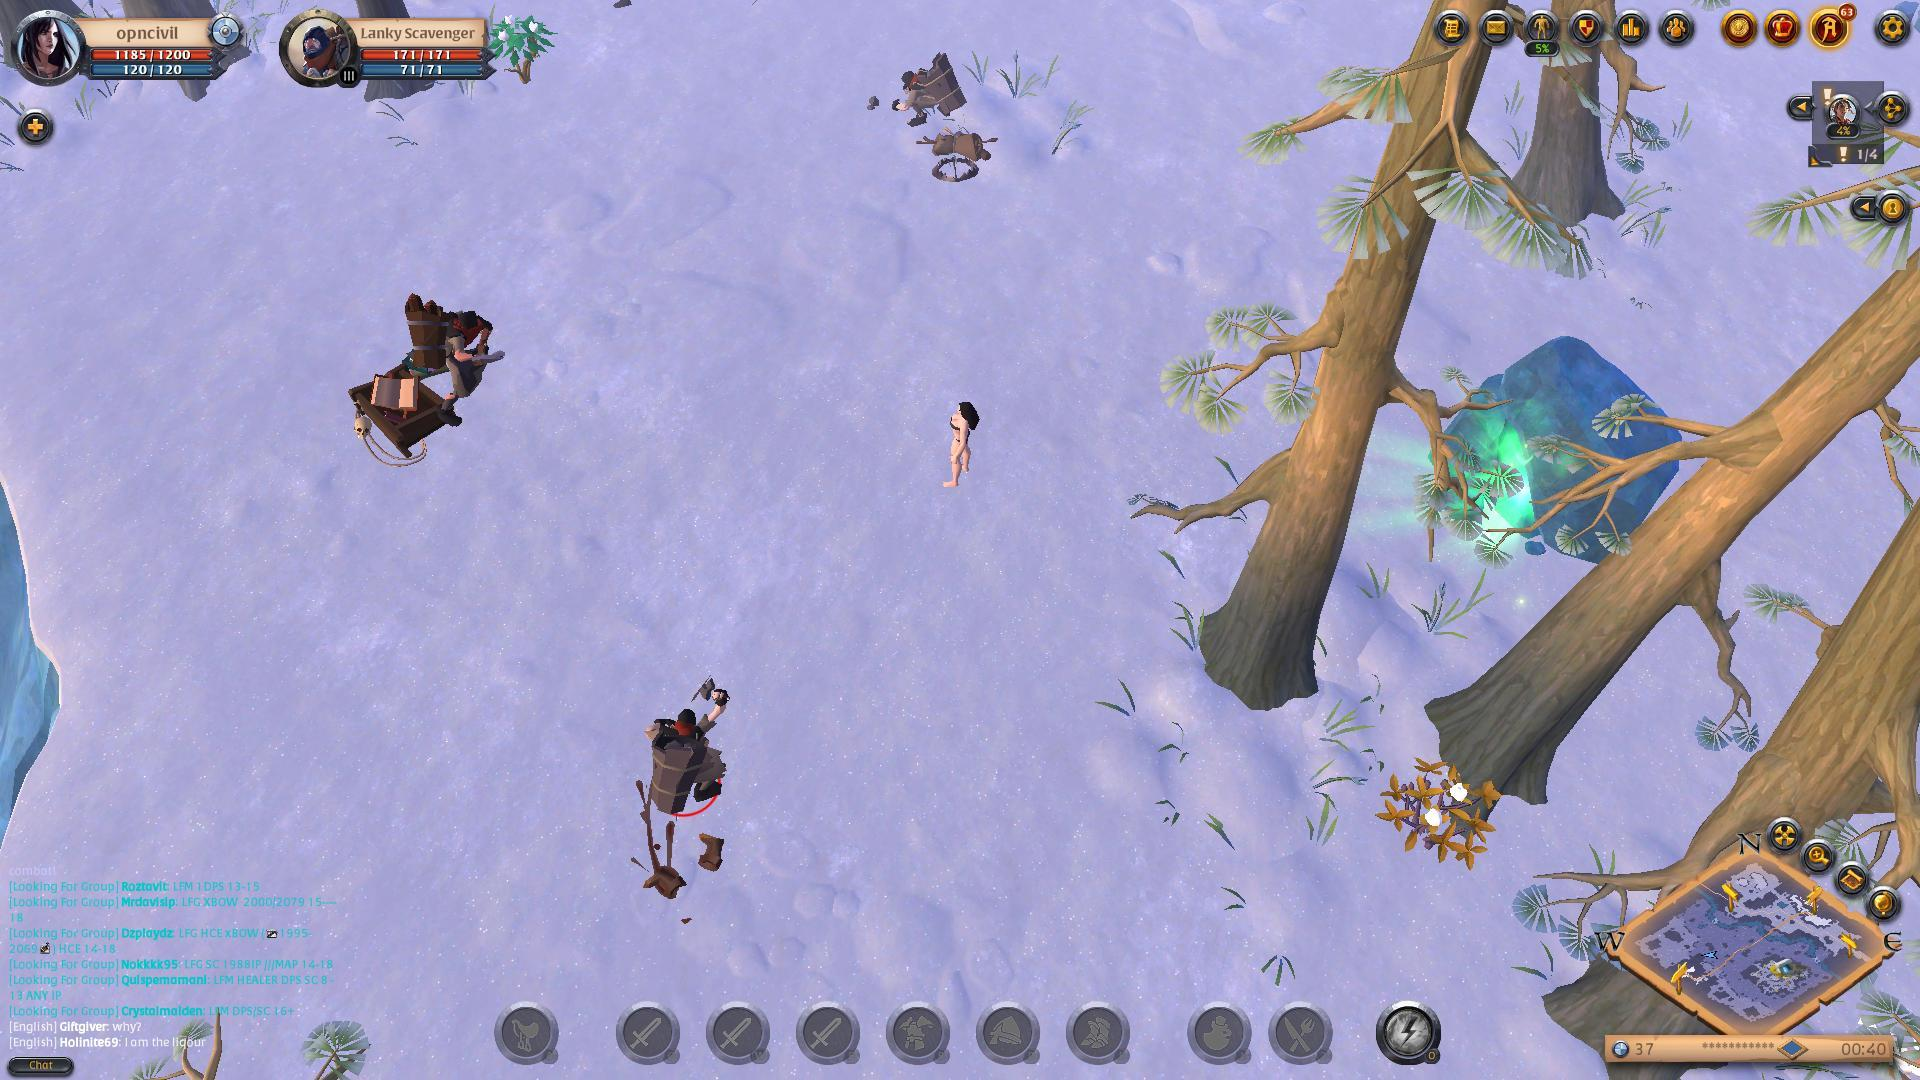cotton: (1369, 752, 1509, 866)
flax: (484, 3, 562, 91)
mob: (628, 673, 744, 828), (400, 282, 510, 407), (890, 46, 964, 132)
